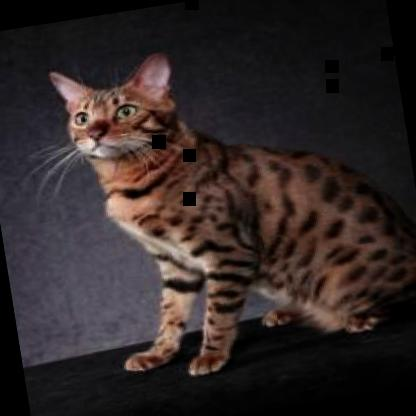cat: (46, 13, 415, 392)
